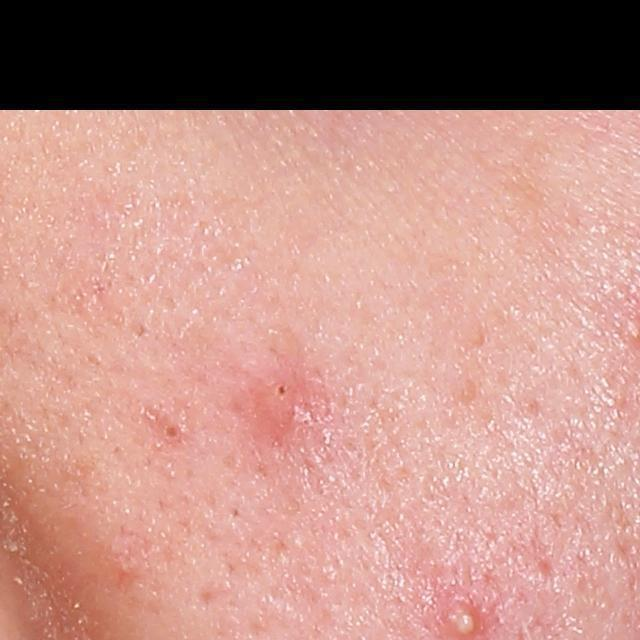comedo: (268, 374, 294, 404), (155, 420, 184, 445)
pustule: (444, 603, 478, 638)
